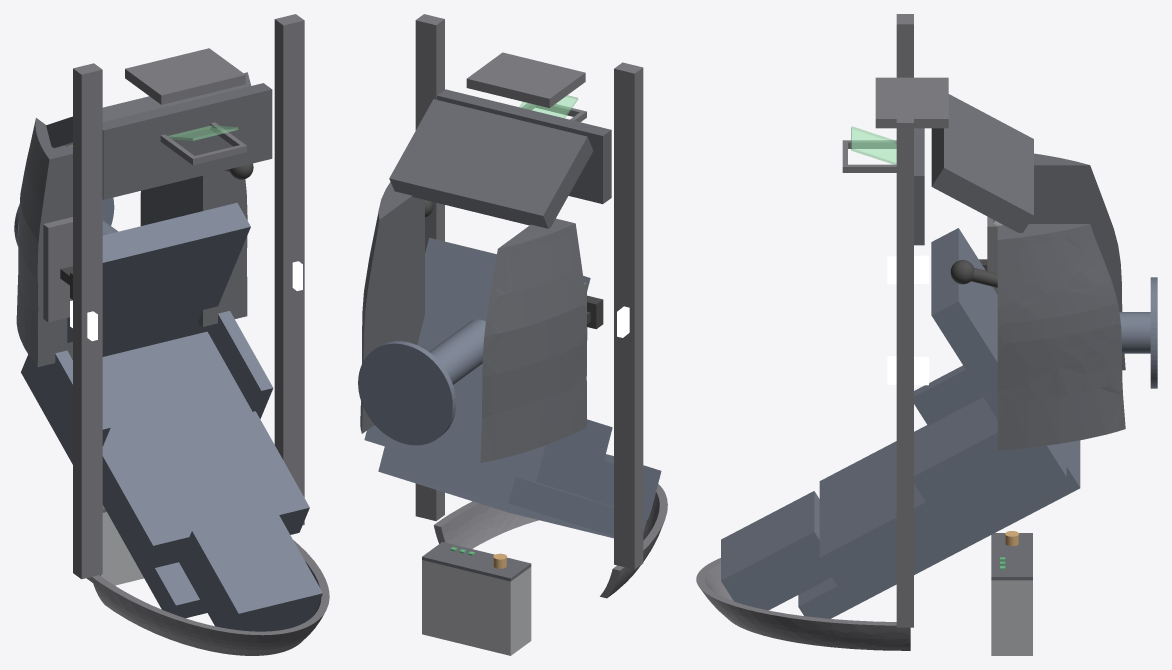
The model's file is cockpit00_fighter_canopy_cutaway.glb.
3 renders of one model, left to right at view 1: azimuth 30°, elevation 25°; view 2: azimuth 150°, elevation 25°; view 3: azimuth 270°, elevation 25°, orthographic.
Parts seen in each view (by area): view 1: seat_1, canopy_sill_rails, glareshield_1, side_console_l_1, canopy_frame_inner, side_console_r_1, rudder_pedals_1, throttle_quadrant_1, dash_panel_1, eq03_1_body, hud_frame_1, light_panels (+1 smaller); view 2: seat_1, side_console_l_1, canopy_sill_rails, dash_panel_1, side_console_r_1, eq03_1_body, canopy_frame_inner, glareshield_1, rudder_pedals_1, eq03_1_front_panel, hud_combiner_1, throttle_1 (+1 smaller); view 3: seat_1, side_console_r_1, canopy_sill_rails, dash_panel_1, canopy_frame_inner, side_console_l_1, rudder_pedals_1, eq03_1_body, eq03_1_front_panel, light_panels, glareshield_1, hud_combiner_1 (+2 smaller).
Part boxes in pixels (box(x1,y1,x2,y2)): seat_1: box(14, 197, 322, 631); canopy_sill_rails: box(73, 14, 304, 579); glareshield_1: box(102, 83, 272, 199); side_console_l_1: box(16, 118, 72, 367); canopy_frame_inner: box(91, 540, 329, 655); side_console_r_1: box(140, 170, 247, 326); rudder_pedals_1: box(125, 48, 245, 104); throttle_quadrant_1: box(43, 217, 72, 322); dash_panel_1: box(46, 72, 251, 148); eq03_1_body: box(86, 512, 144, 585); hud_frame_1: box(160, 122, 246, 165); light_panels: box(70, 261, 302, 341); seat_1: box(358, 238, 661, 538); side_console_l_1: box(480, 218, 587, 462); canopy_sill_rails: box(415, 14, 643, 569); dash_panel_1: box(389, 99, 593, 228); side_console_r_1: box(360, 182, 424, 433); eq03_1_body: box(422, 560, 531, 655); canopy_frame_inner: box(433, 484, 667, 598); glareshield_1: box(437, 89, 611, 204); rudder_pedals_1: box(466, 52, 585, 107); eq03_1_front_panel: box(422, 542, 531, 581); hud_combiner_1: box(519, 95, 578, 118); throttle_1: box(587, 295, 603, 329); seat_1: box(721, 228, 1157, 618); side_console_r_1: box(997, 224, 1125, 450); canopy_sill_rails: box(896, 14, 913, 627); dash_panel_1: box(931, 94, 1033, 232); canopy_frame_inner: box(696, 558, 910, 650); side_console_l_1: box(1029, 153, 1125, 370); rudder_pedals_1: box(875, 77, 948, 128); eq03_1_body: box(991, 580, 1032, 655); eq03_1_front_panel: box(991, 533, 1032, 580); light_panels: box(887, 255, 929, 385); glareshield_1: box(914, 128, 924, 245); hud_combiner_1: box(851, 126, 896, 164).
Bounding box in the file's own units: 0.74 × 1.79 × 1.33.
